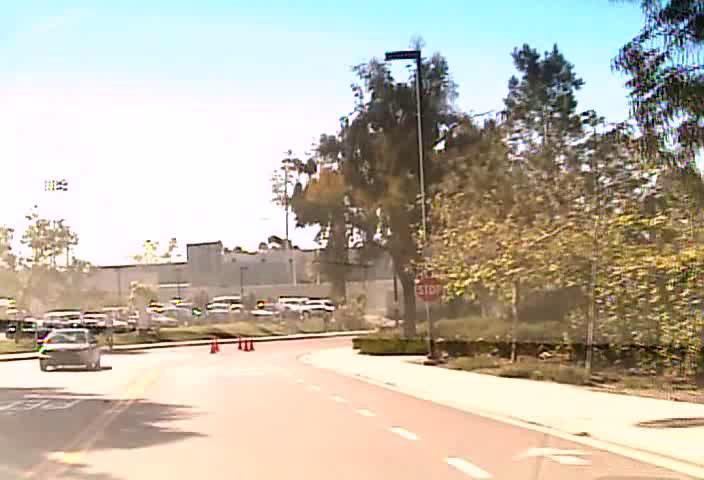stop: (415, 276, 443, 303)
